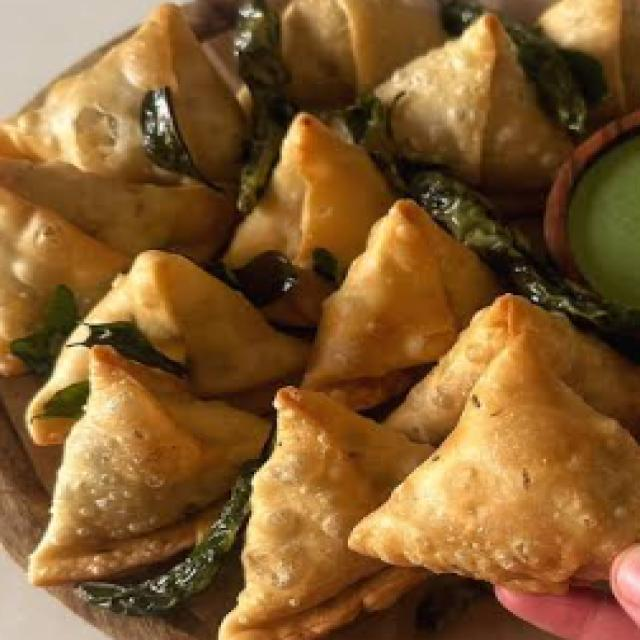Samboosa: (10, 11, 640, 626)
